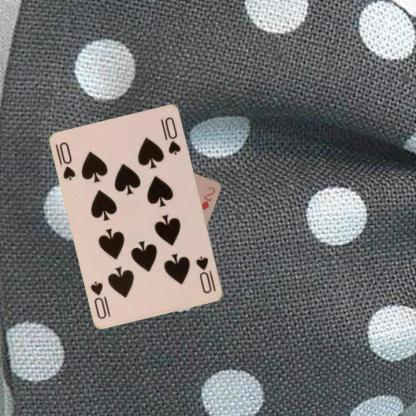10s: (193, 254, 217, 295), (58, 139, 78, 182)
